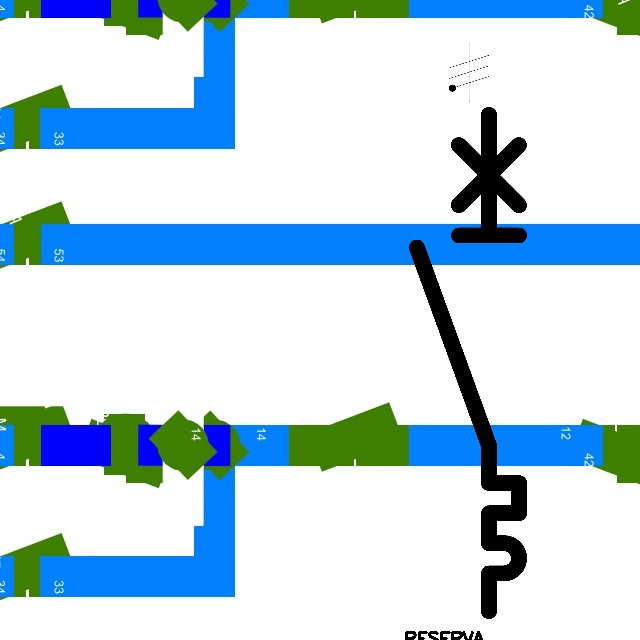interruptor_termomagnetico: (404, 102, 532, 624)
